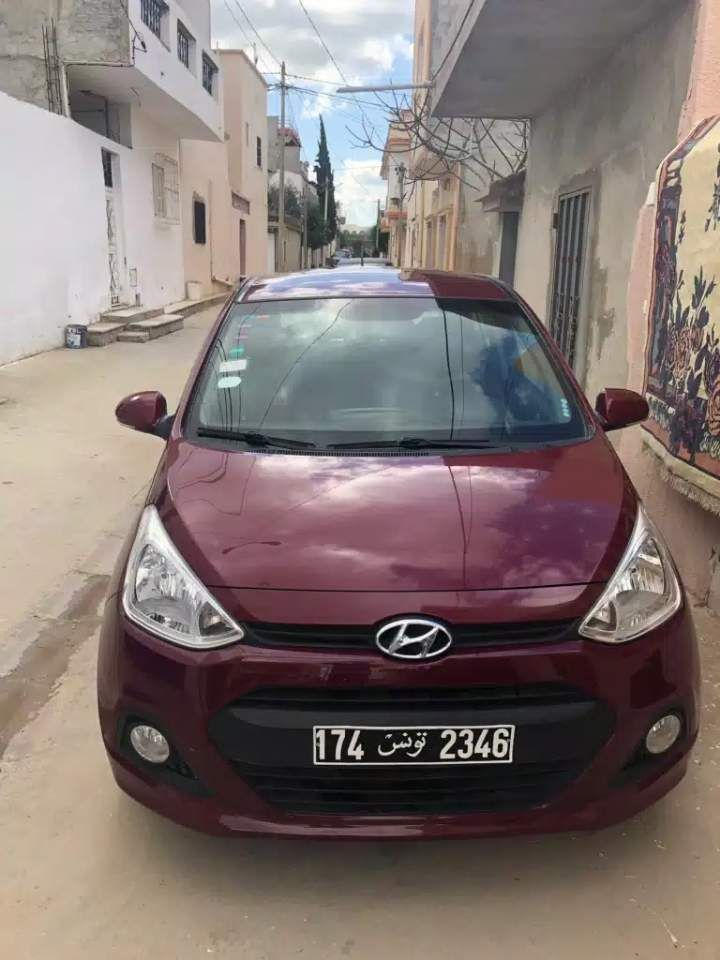LP: (311, 722, 516, 766)
